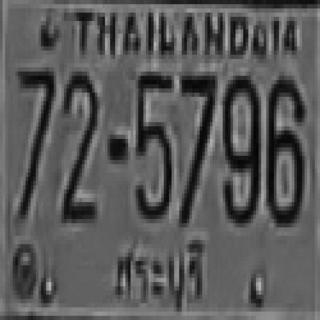N02: (59, 70, 97, 221)
N05: (133, 67, 172, 219)
N06: (264, 72, 302, 223)
N07: (15, 63, 54, 219), (179, 72, 215, 223)
N09: (220, 72, 258, 223)
P60: (108, 238, 209, 308)
